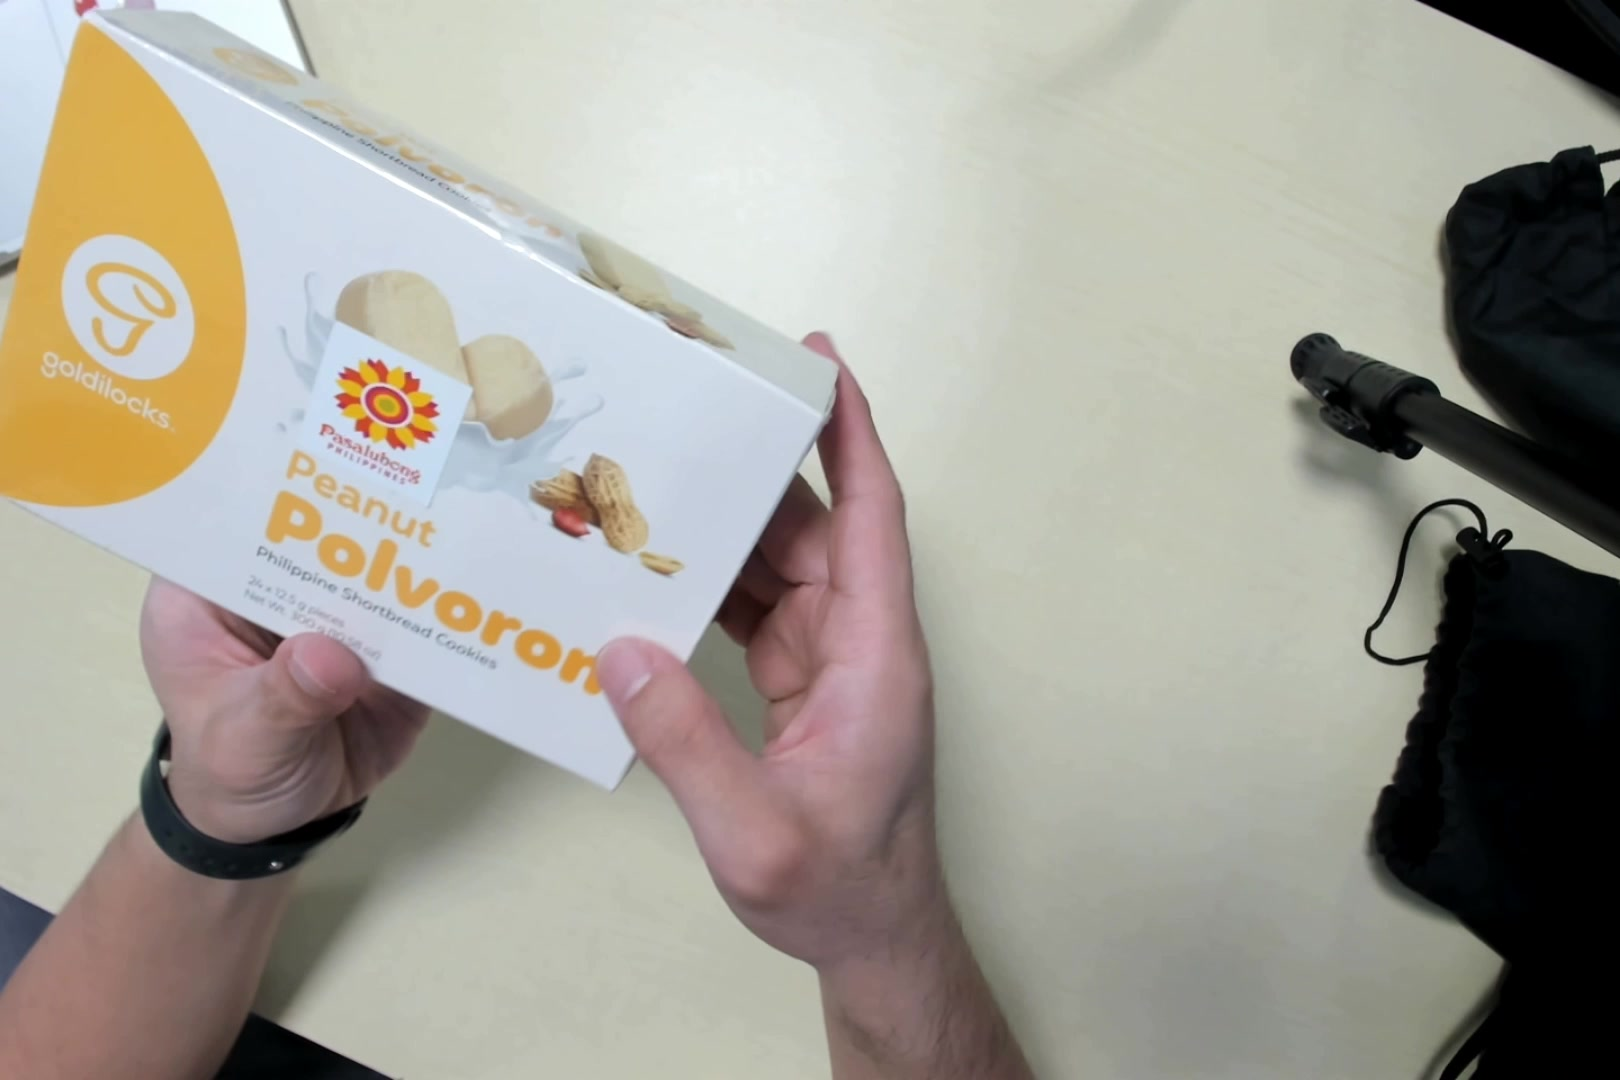SweetsChocolatesOthers_300-399g_Halal_NonHealthy: (7, 10, 830, 794)
